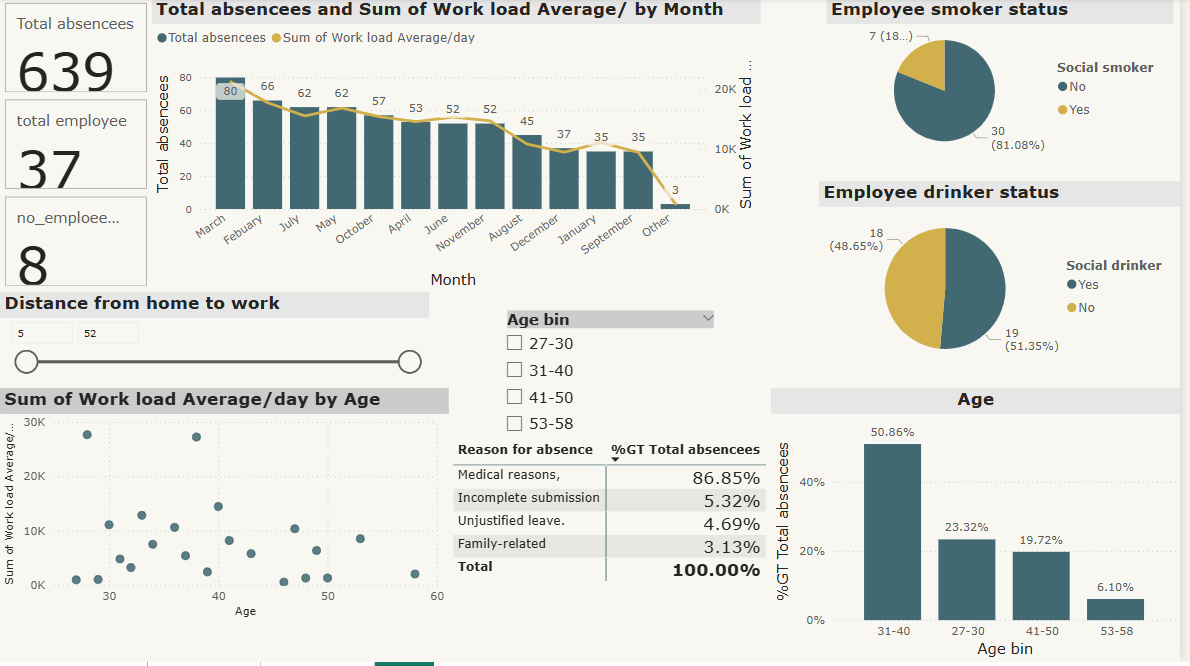

The page's visual inventory and layout, read from the dashboard file:
{"tool":"powerbi","page":{"name":"Page 1","canvas":[1280,720],"ordinal":0},"visuals":[{"type":"columnChart","title":"Age","fields":{"Category":["Employee_info.Age bin"],"Y":["Absenteeisms.Total absencees"]},"box":[835.3,423.3,444.1,296.7],"z":0},{"type":"pieChart","title":"Employee smoker status","fields":{"Category":["Employee_info.Social smoker (groups)"],"Y":["CountNonNull(Employee_info.Social smoker (groups))"]},"box":[895.8,0,376.1,177.6],"z":1000},{"type":"pieChart","title":"Employee drinker status","fields":{"Category":["Employee_info.Social drinker (groups)"],"Y":["CountNonNull(Employee_info.Social drinker (groups))"]},"box":[888.1,198.4,392,209.8],"z":2000},{"type":"lineStackedColumnComboChart","title":"Total absencees and Sum of Work load Average/ by Month ","fields":{"Category":["Absenteeisms.Season","Absenteeisms.Month ","Absenteeisms. week "],"Y":["Absenteeisms.Total absencees"],"Y2":["Sum(Absenteeisms.Work load Average/day)"]},"box":[164.3,0,660.4,318.8],"z":6000},{"type":"cardVisual","fields":{"Data":["Absenteeisms.Total absencees","Employee_info.Number of employee","Employee_info.no_emploee with pet_children"]},"box":[0,0,164.4,319.4],"z":7000},{"type":"slicer","title":"Distance from home to work","fields":{"Values":["Employee_info.Distance from home to work"]},"box":[0,318.8,465.2,104.1],"z":8000},{"type":"scatterChart","fields":{"X":["Employee_info.Age"],"Y":["Sum(Absenteeisms.Work load Average/day)"]},"box":[0,422.9,486.3,253.7],"z":9000},{"type":"pivotTable","fields":{"Values":["Absenteeisms.Total absencees"],"Rows":["Absenteeisms.Reason for absence (groups)"]},"box":[486.3,475,349.7,188.7],"z":10000},{"type":"slicer","fields":{"Values":["Employee_info.Age bin"]},"box":[536.8,333.4,250.5,149.6],"z":11000}]}

Visuals, with their boxes in screenshot pixels (x1, y1, x2, y2), scaled from the page's 1280x720 canvas onto the 1190x666 screenshot:
"Age" columnChart: locate(777, 392, 1189, 665)
"Employee smoker status" pieChart: locate(833, 0, 1182, 164)
"Employee drinker status" pieChart: locate(826, 184, 1189, 378)
"Total absencees and Sum of Work load Average/ by Month " lineStackedColumnComboChart: locate(153, 0, 767, 295)
cardVisual - Absenteeisms.Total absencees x Employee_info.Number of employee: locate(0, 0, 153, 295)
"Distance from home to work" slicer: locate(0, 295, 432, 391)
scatterChart - Employee_info.Age x Sum(Absenteeisms.Work load Average/day): locate(0, 391, 452, 626)
pivotTable - Absenteeisms.Total absencees x Absenteeisms.Reason for absence (groups): locate(452, 439, 777, 614)
slicer - Employee_info.Age bin: locate(499, 308, 732, 447)
